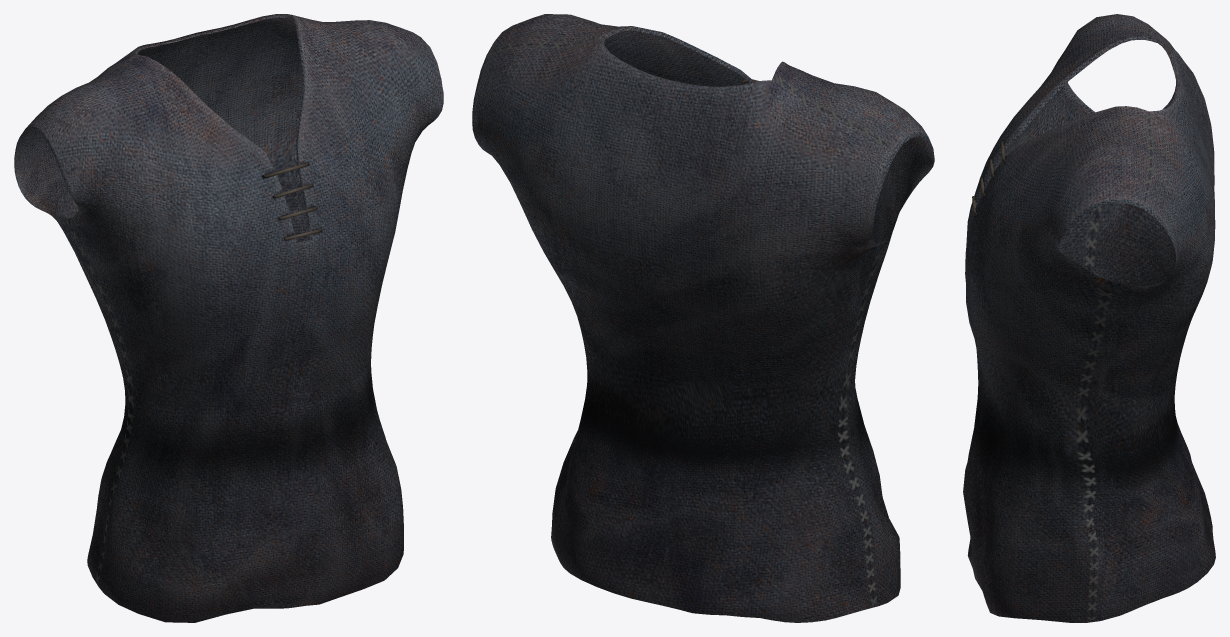
The model's file is SHIRT.fbx.
3 views of the same model, side by side, from view 1: azimuth 30°, elevation 25°; view 2: azimuth 150°, elevation 25°; view 3: azimuth 270°, elevation 25° (orthographic). The views are drawn at different scales.
Visible parts, largest first — view 1: shirt; view 2: shirt; view 3: shirt.
Part boxes in pixels (x1,y1,x2,y2): shirt: (14,14,443,622); shirt: (472,14,934,622); shirt: (963,14,1215,622).
Bounding box in the file's own units: 50.14 × 64.68 × 29.55.
